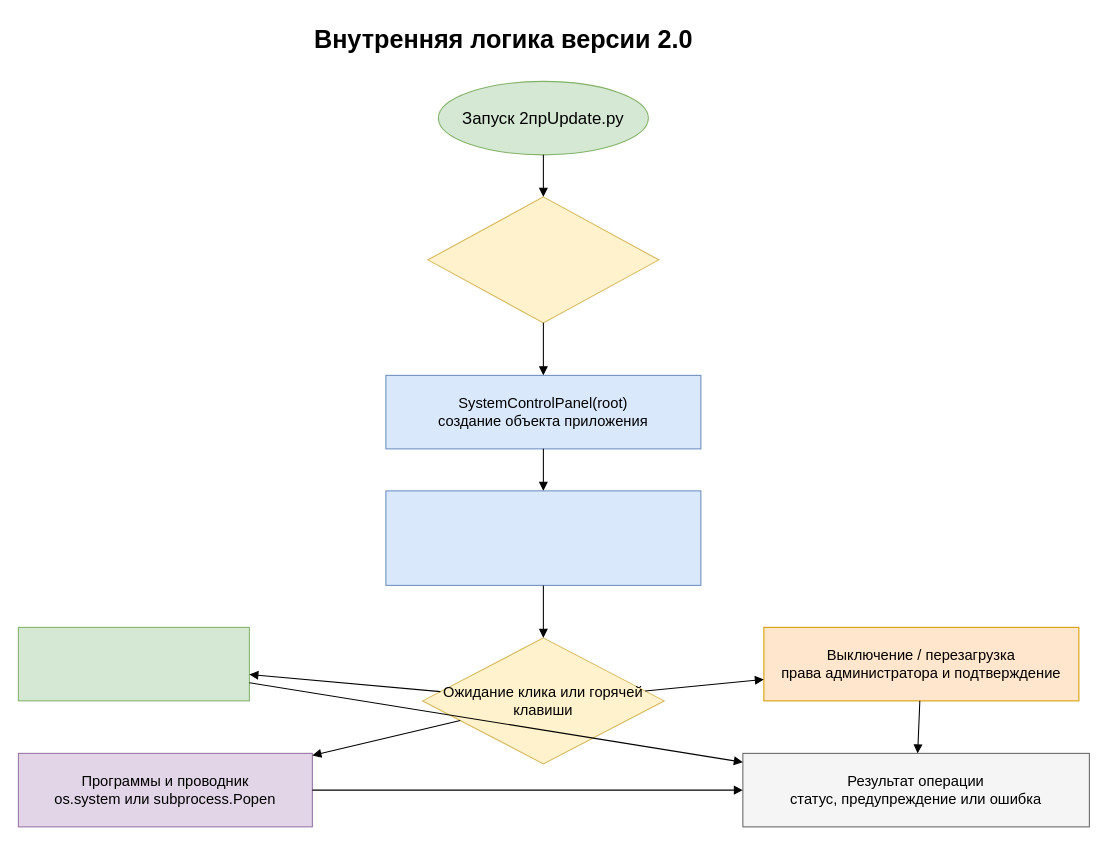
Image size: 1108x845. Some labels were removed from this diagram. Here are the shapes that lost their labels. From the top down, the centre of each, then its label:
At (543,259): "check_admin() проверка прав на Windows".
At (543,537): "Настройка приложения окно, виджеты, горячие клавиши".
At (133,663): "Сайты webbrowser.open(url)".
